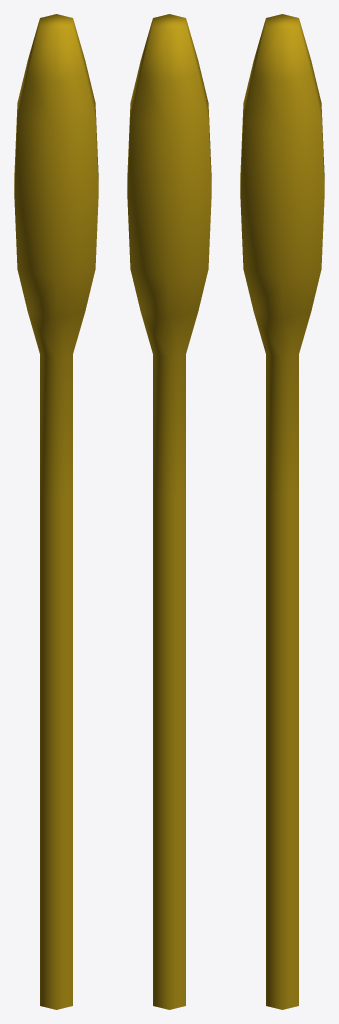
The model's file is ble.FBX.
The picture shows the model from 3 angles, left to right: view 1: azimuth 30°, elevation 25°; view 2: azimuth 150°, elevation 25°; view 3: azimuth 330°, elevation 25°; orthographic projection.
Visible parts, largest first — view 1: ble; view 2: ble; view 3: ble.
Boxes of the visible parts, x1,y1,x2,y2 form: ble: (14, 14, 98, 1009); ble: (127, 14, 211, 1009); ble: (240, 14, 324, 1009).
Size of the model in its own units: 1.25 by 13.93 by 1.09.
